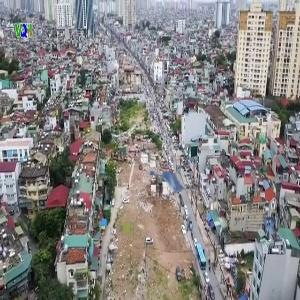drone: (138, 155, 194, 211)
